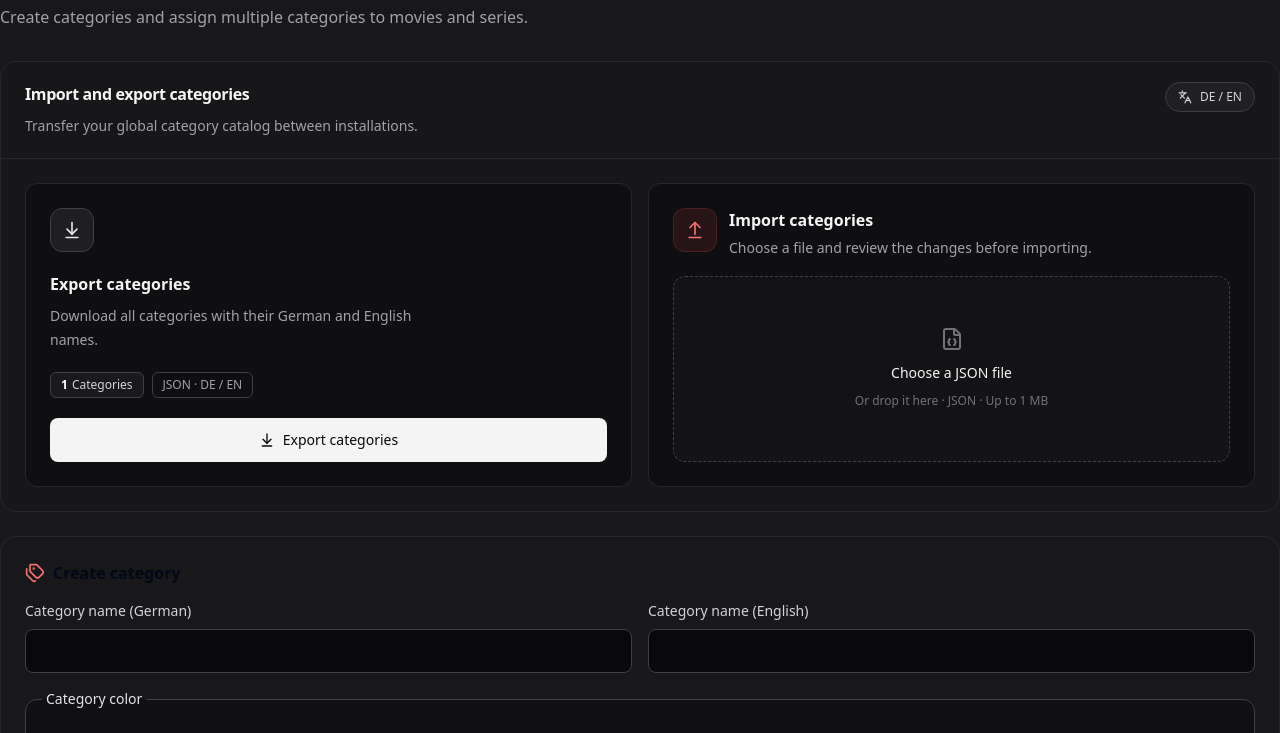
Test: creates a named category and refreshes the list
This screenshot has width=1280, height=733.
Type "Behind Scenes" into the field labelled "Category name (German)" at (328, 651), box [25,629,632,673]
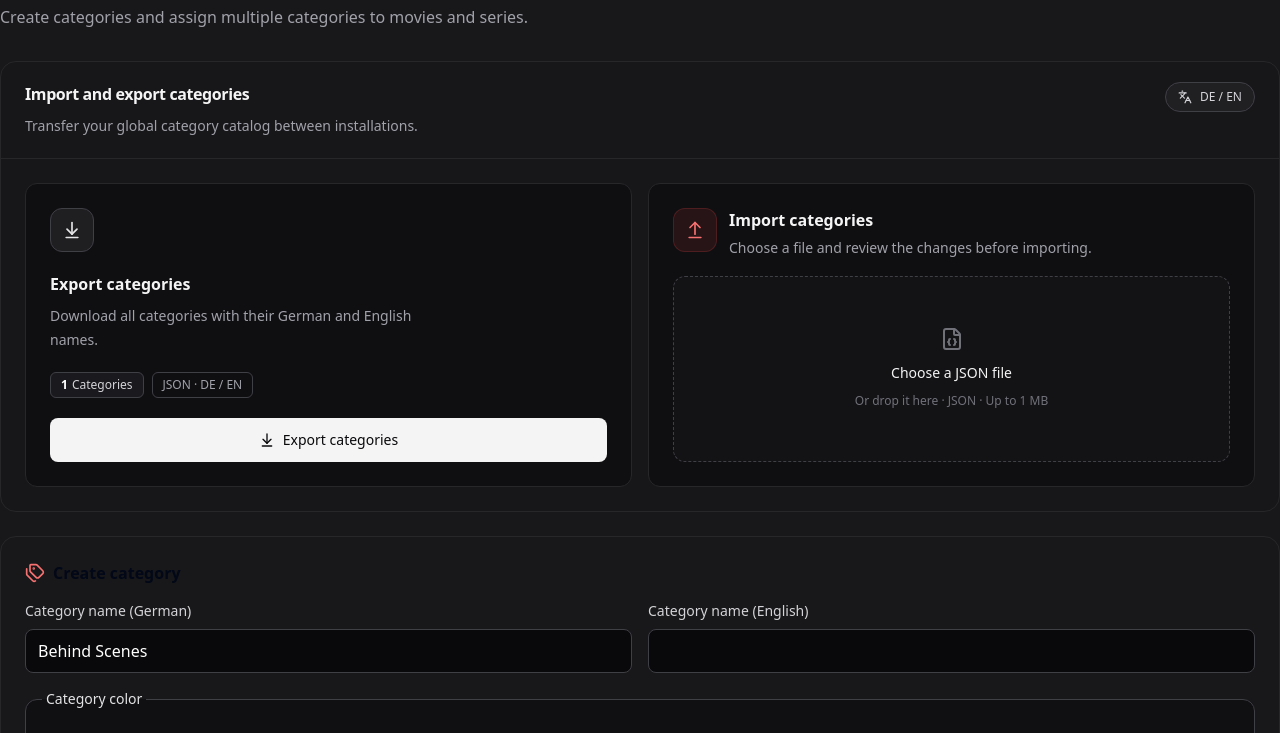
Type "Behind Scenes" into the field labelled "Category name (English)" at (952, 651), box [648,629,1255,673]
(page scrolled)
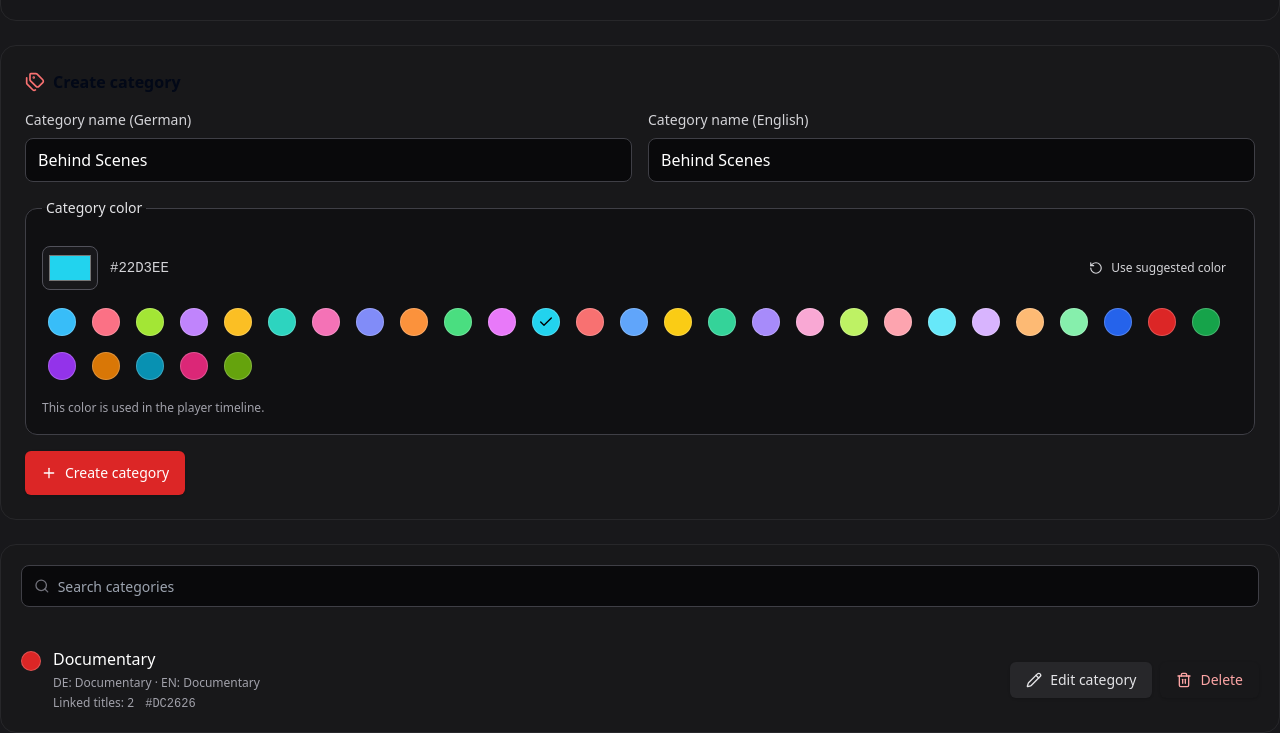
Click the button "Create category" at (105, 473), box [25,451,185,495]
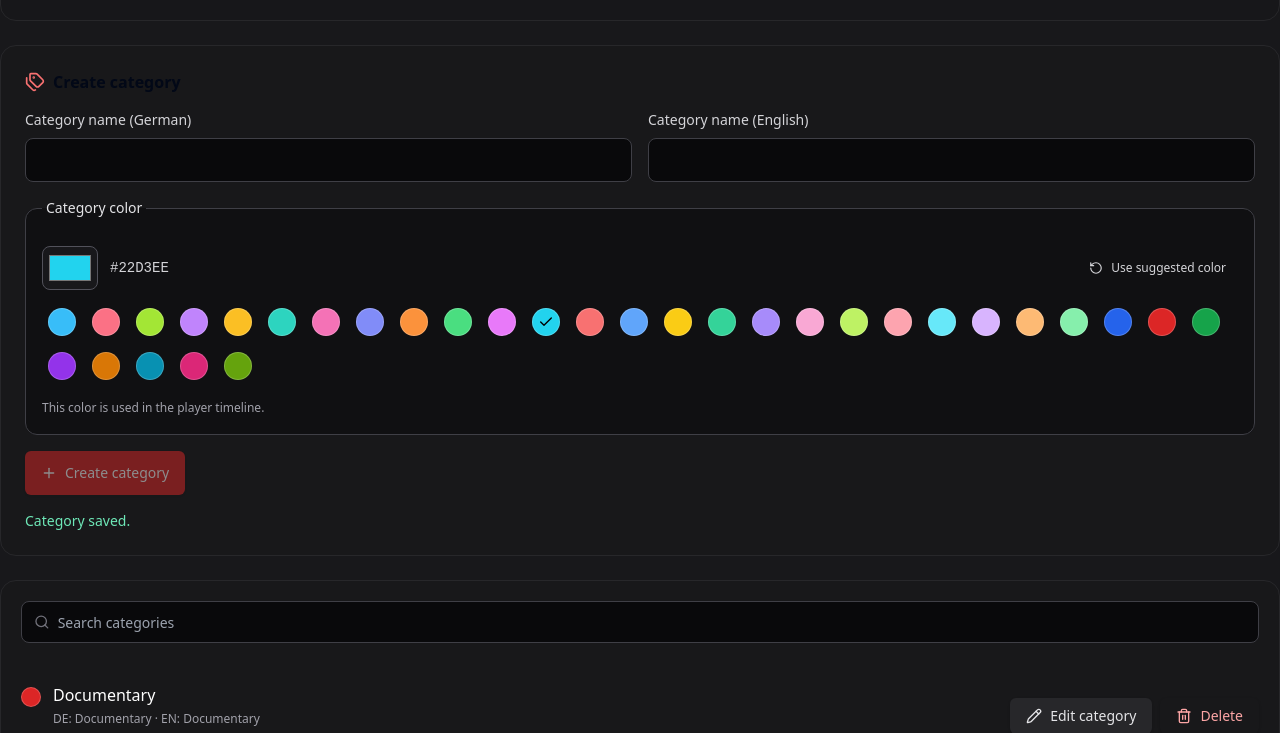
Result: the text "Category saved." is shown at [25,511,130,530]
Result: the field labelled "Category name (German)" is empty at [25,138,632,182]
